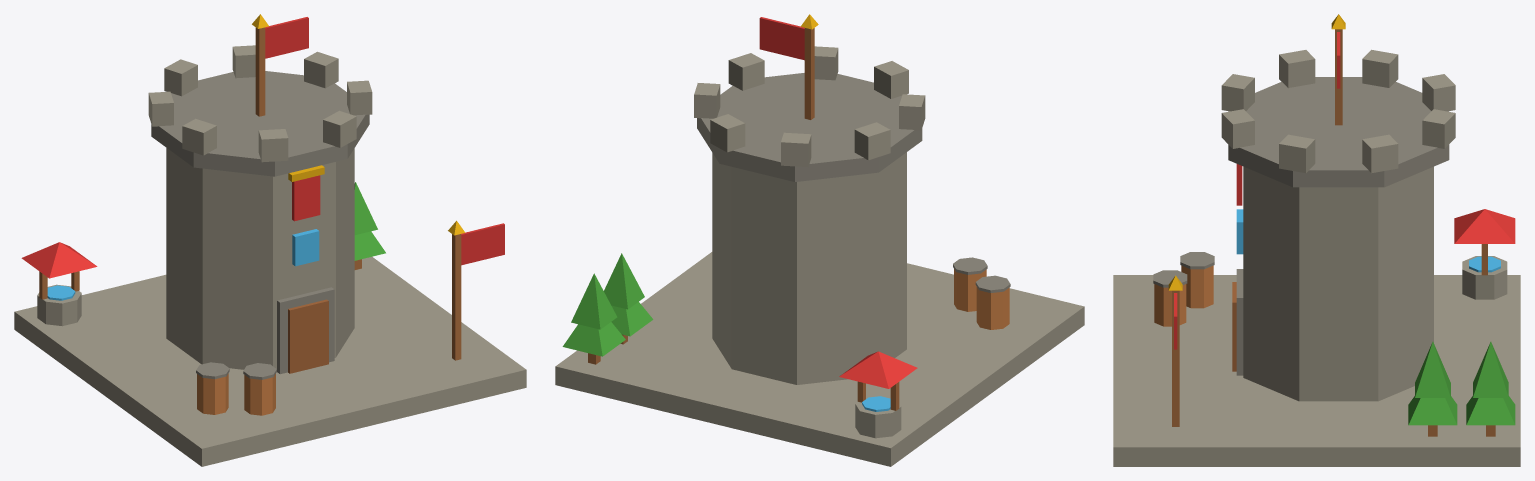
File: defense_tower_t2_v3.glb
3 renders of one model, left to right at view 1: azimuth 30°, elevation 25°; view 2: azimuth 150°, elevation 25°; view 3: azimuth 270°, elevation 25°, orthographic. The views are drawn at different scales.
Parts seen in each view (by area): view 1: defense_tower_t2_v3; view 2: defense_tower_t2_v3; view 3: defense_tower_t2_v3.
Boxes of the visible parts, x1,y1,x2,y2 form: defense_tower_t2_v3: [14, 14, 526, 466]; defense_tower_t2_v3: [555, 14, 1084, 466]; defense_tower_t2_v3: [1113, 14, 1520, 466].
Bounding box in the file's own units: 0.765 × 0.745 × 0.75.
1 material, 1 textured.
